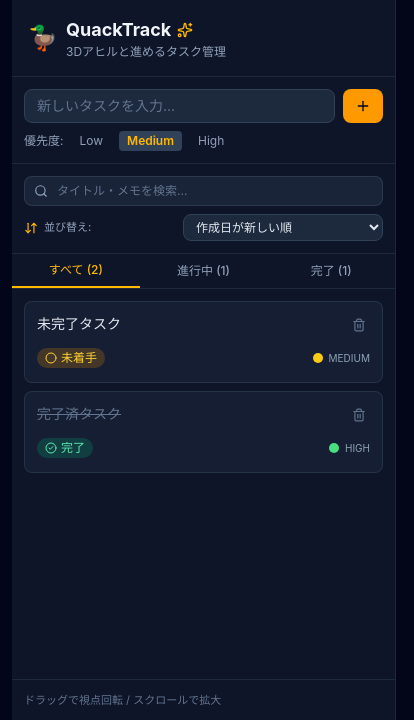
Scenario: TaskPanel Component › filters tasks by tab
Expected: the text "未完了タスク" is shown, [37, 315, 121, 332]
Expected: the text "完了済タスク" is shown, [37, 405, 121, 422]
# Click 進行中 tab
Click the button "進行中 (1)" at (204, 271), box [140, 254, 267, 288]
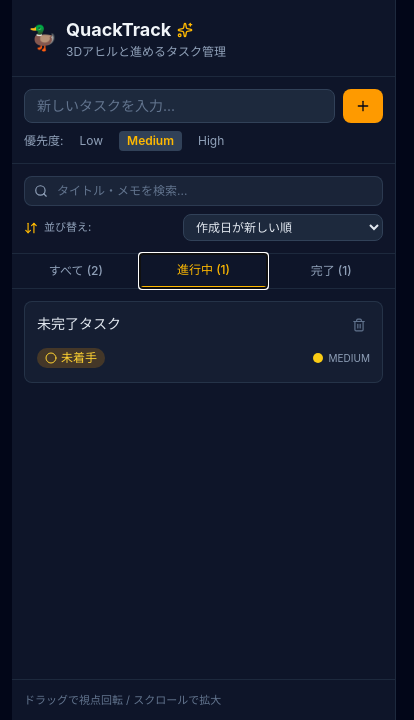
Expected: the text "未完了タスク" is shown, [37, 315, 121, 332]
Expected: the text "完了済タスク" is gone
# Click 完了 tab
Click the button "完了 (1)" at (331, 271), box [267, 254, 395, 288]
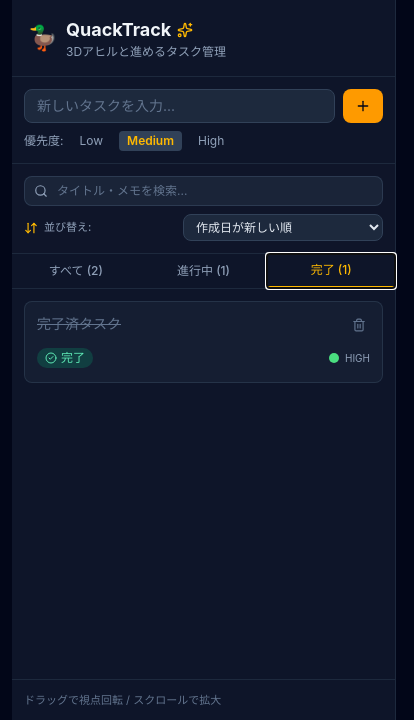
Expected: the text "未完了タスク" is gone
Expected: the text "完了済タスク" is shown, [37, 315, 121, 332]
